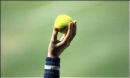tennis ball: (54, 14, 73, 34)
